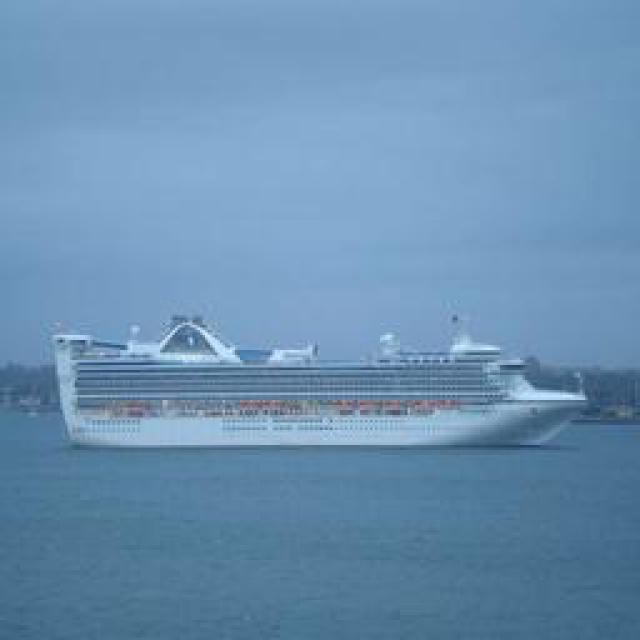Ship: (54, 312, 594, 452)
